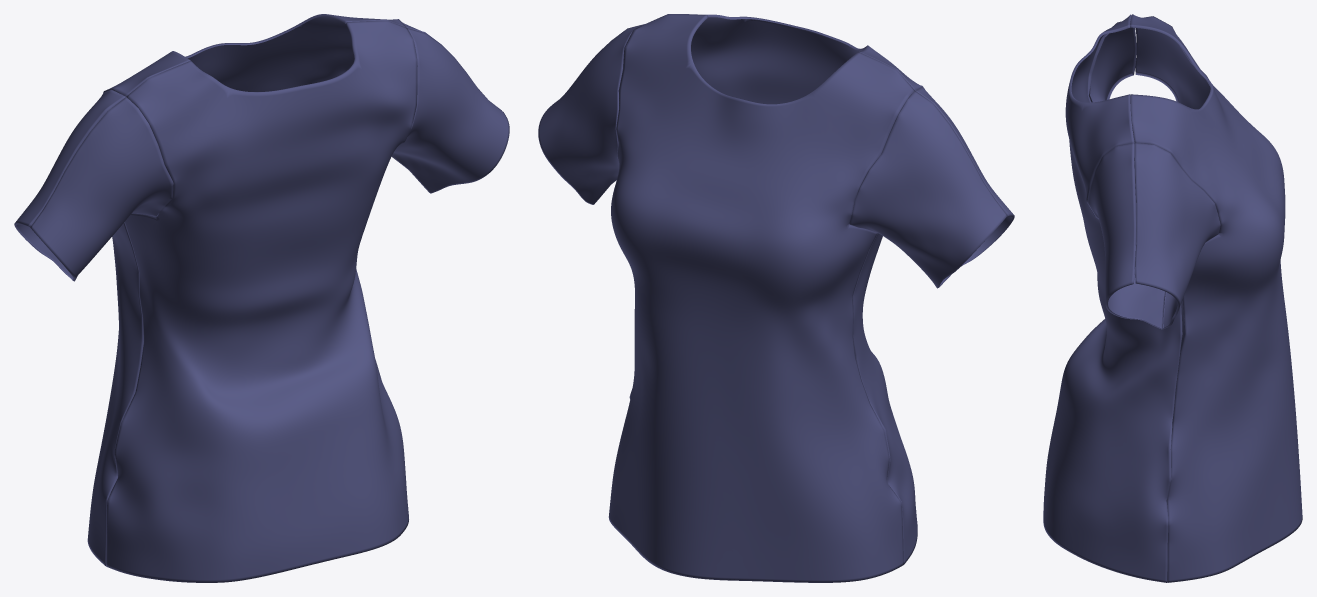
The model's file is Poskus4.gltf.
3 renders of one model, left to right at view 1: azimuth 30°, elevation 25°; view 2: azimuth 150°, elevation 25°; view 3: azimuth 270°, elevation 25°, orthographic. The views are drawn at different scales.
Visible parts, largest first — view 1: Plane; view 2: Plane; view 3: Plane.
Boxes of the visible parts, <box> form: Plane: <box>14,14,509,582</box>; Plane: <box>538,14,1014,582</box>; Plane: <box>1043,14,1302,582</box>.
Size of the model in its own units: 2.04 by 2.07 by 1.06.
